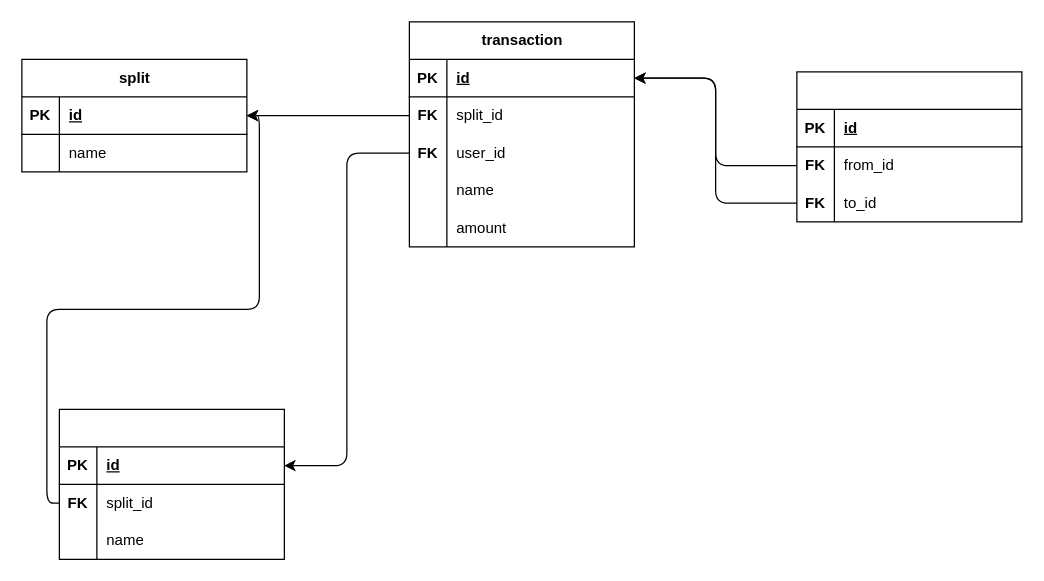
This 1044x581 diagram has some shape labels left out. Each missing label, with the box of its shape:
transfer: (796, 71, 1022, 222)
user: (58, 408, 284, 559)
